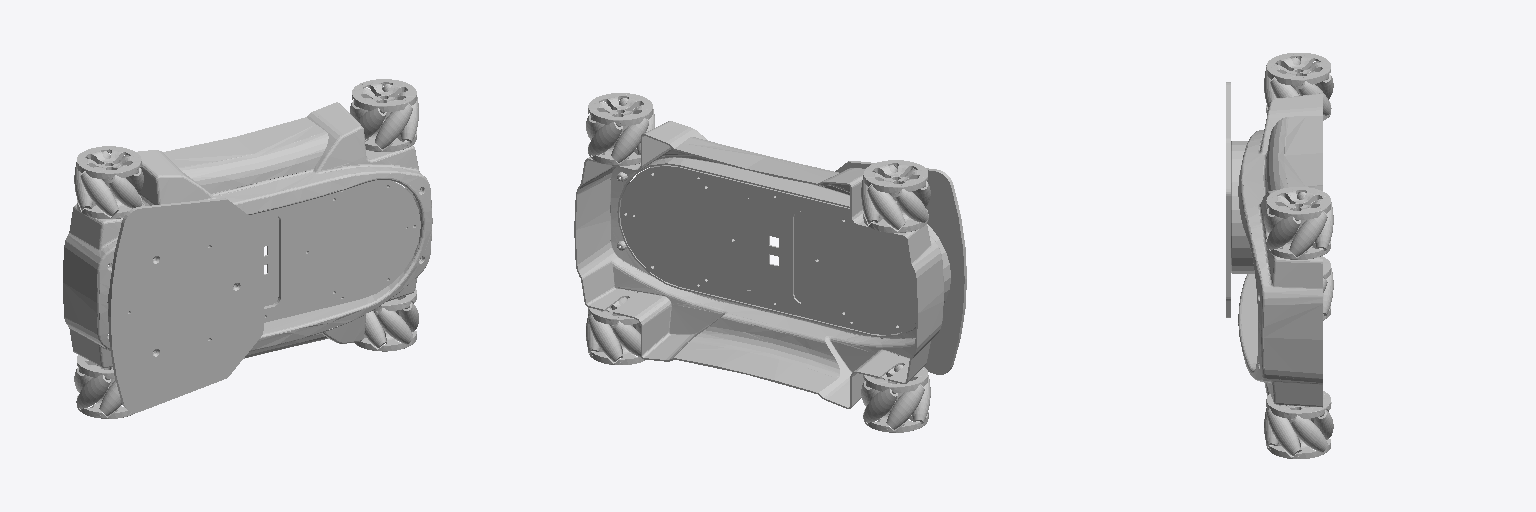
Rendered from youbot_base.obj.
The picture shows the model from 3 angles: view 1: azimuth 30°, elevation 25°; view 2: azimuth 150°, elevation 25°; view 3: azimuth 270°, elevation 25°; orthographic projection.
Parts seen in each view (by area): view 1: base_frame_Frame_004-Geometr.001, plate_Frame_001-Geometr_001, back-left_wheel_base-mesh_007-mes.005, front-left_wheel_join_base-mesh_007-mes.007, front-right_wheel_base-mesh_007-mes.008, back-right_wheel_base-mesh_007-mes.006; view 2: base_frame_Frame_004-Geometr.001, plate_Frame_001-Geometr_001, back-left_wheel_base-mesh_007-mes.005, front-left_wheel_join_base-mesh_007-mes.007, back-right_wheel_base-mesh_007-mes.006, front-right_wheel_base-mesh_007-mes.008; view 3: base_frame_Frame_004-Geometr.001, front-left_wheel_join_base-mesh_007-mes.007, front-right_wheel_base-mesh_007-mes.008, back-left_wheel_base-mesh_007-mes.005, plate_Frame_001-Geometr_001, back-right_wheel_base-mesh_007-mes.006.
Boxes of the visible parts, x1=… form: base_frame_Frame_004-Geometr.001: x1=63, y1=102, x2=432, y2=367; plate_Frame_001-Geometr_001: x1=107, y1=198, x2=263, y2=412; back-left_wheel_base-mesh_007-mes.005: x1=74, y1=146, x2=143, y2=218; front-left_wheel_join_base-mesh_007-mes.007: x1=350, y1=79, x2=418, y2=151; front-right_wheel_base-mesh_007-mes.008: x1=354, y1=288, x2=418, y2=351; back-right_wheel_base-mesh_007-mes.006: x1=74, y1=355, x2=134, y2=418; base_frame_Frame_004-Geometr.001: x1=574, y1=121, x2=943, y2=408; plate_Frame_001-Geometr_001: x1=835, y1=161, x2=966, y2=374; back-left_wheel_base-mesh_007-mes.005: x1=861, y1=160, x2=930, y2=232; front-left_wheel_join_base-mesh_007-mes.007: x1=586, y1=93, x2=654, y2=165; back-right_wheel_base-mesh_007-mes.006: x1=861, y1=365, x2=930, y2=432; front-right_wheel_base-mesh_007-mes.008: x1=586, y1=297, x2=644, y2=364; base_frame_Frame_004-Geometr.001: x1=1238, y1=93, x2=1322, y2=407; front-left_wheel_join_base-mesh_007-mes.007: x1=1264, y1=187, x2=1333, y2=259; front-right_wheel_base-mesh_007-mes.008: x1=1264, y1=391, x2=1333, y2=458; back-left_wheel_base-mesh_007-mes.005: x1=1264, y1=53, x2=1333, y2=120; plate_Frame_001-Geometr_001: x1=1226, y1=82, x2=1254, y2=317; back-right_wheel_base-mesh_007-mes.006: x1=1323, y1=257, x2=1333, y2=320.
Size of the model in its own units: 8.56 by 5.84 by 2.31.